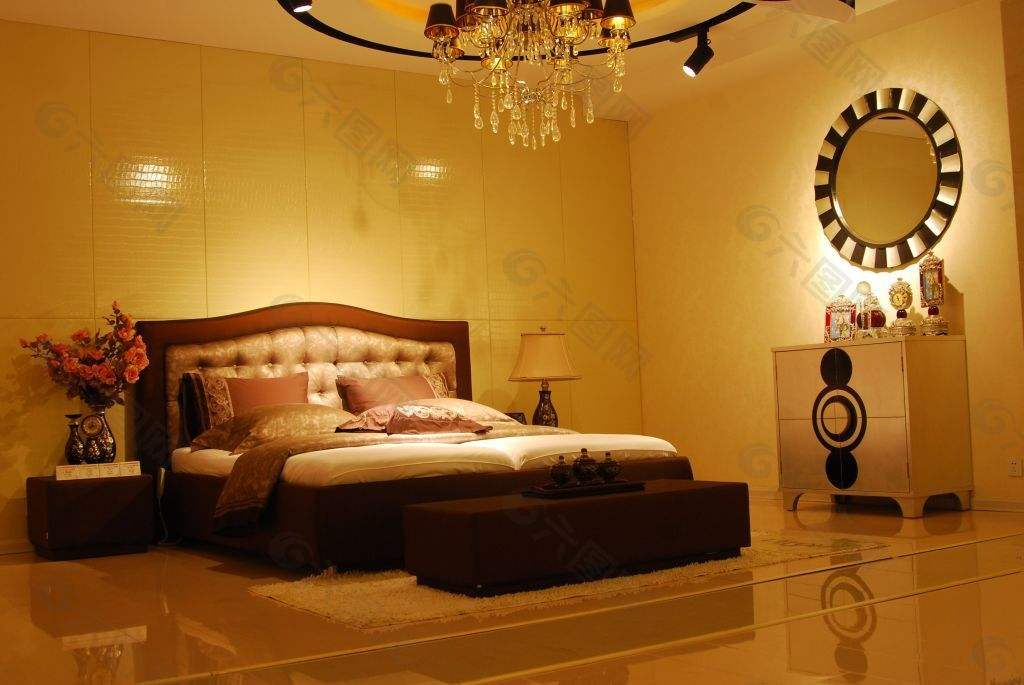床: (182, 410, 704, 590)
枕头: (201, 363, 495, 438)
灯: (420, 3, 626, 149), (502, 325, 578, 436), (680, 41, 715, 78)
